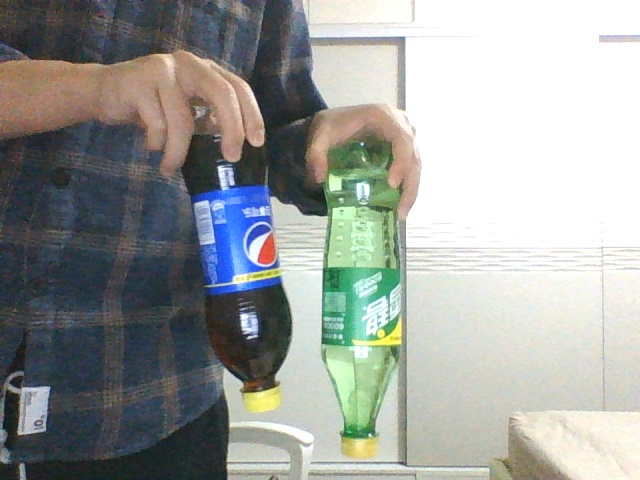Cola: (183, 106, 292, 408)
Sprite: (324, 138, 403, 460)
